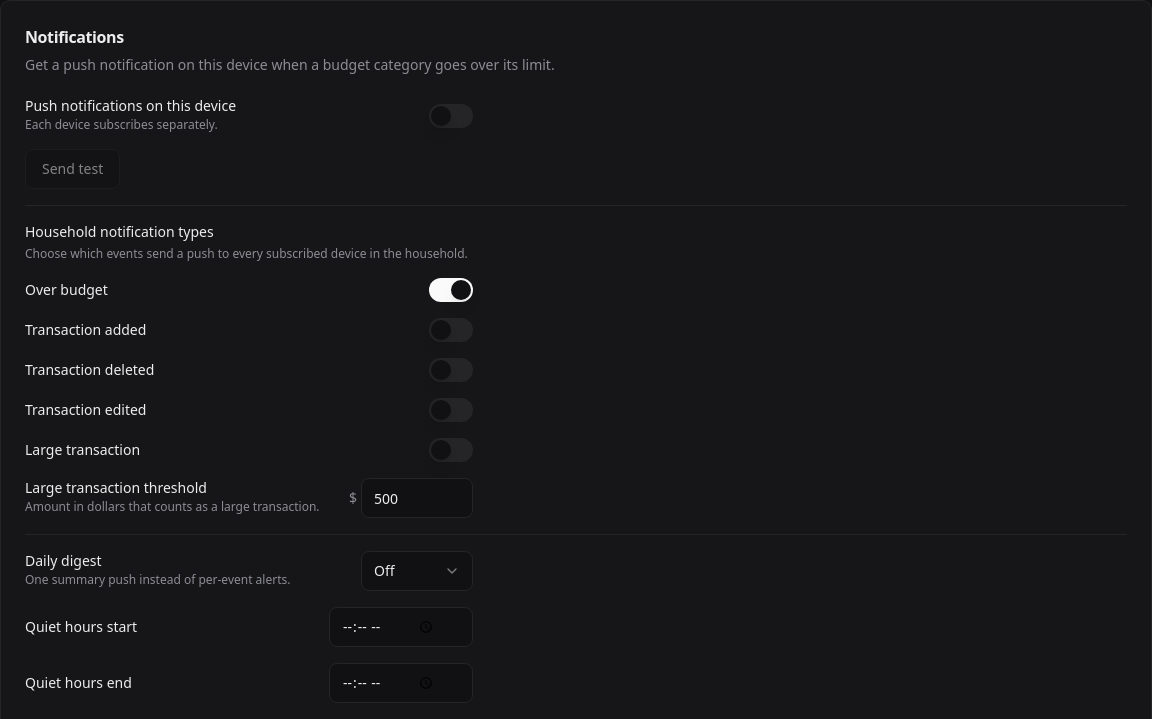
Scenario: NotificationsSection — digest + quiet hours › warns while exactly one quiet bound is set
Expected: the text "fill in the other field" is not shown
Type "22:30" into the time field labelled "Quiet hours start" at [401, 627], box [329,607,473,647]
(page scrolled)
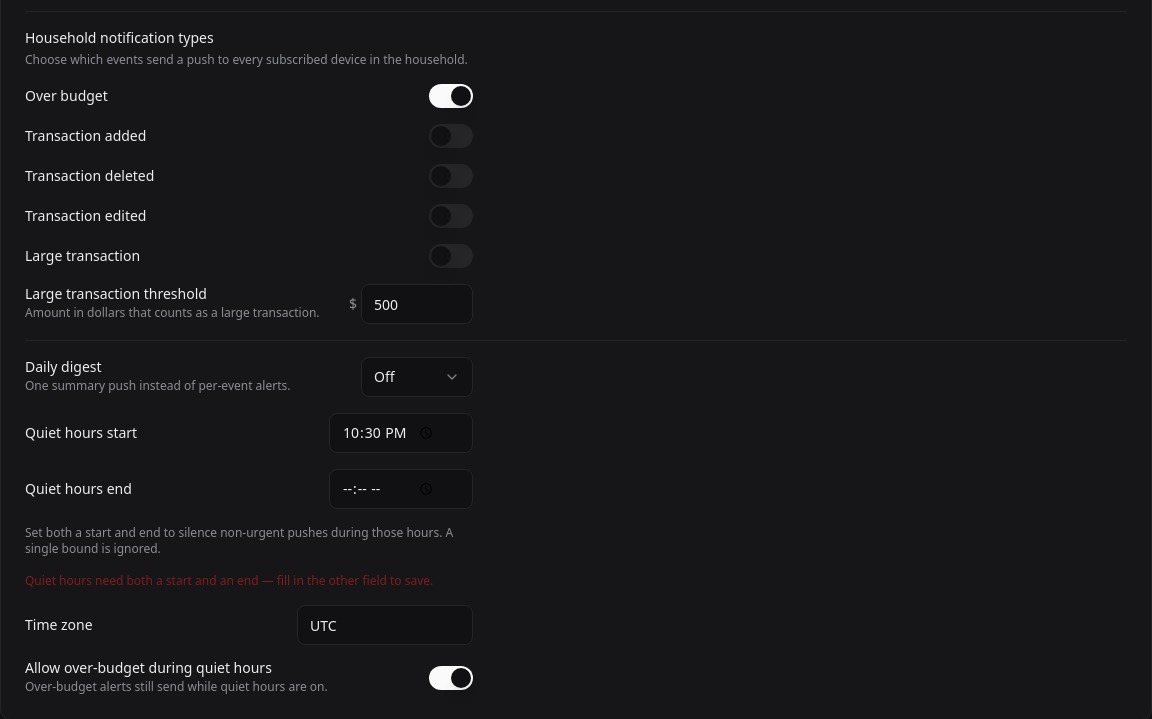
Expected: the text "Quiet hours need both a start and an end — fill in the other field to save." is shown, [25,573,473,589]
